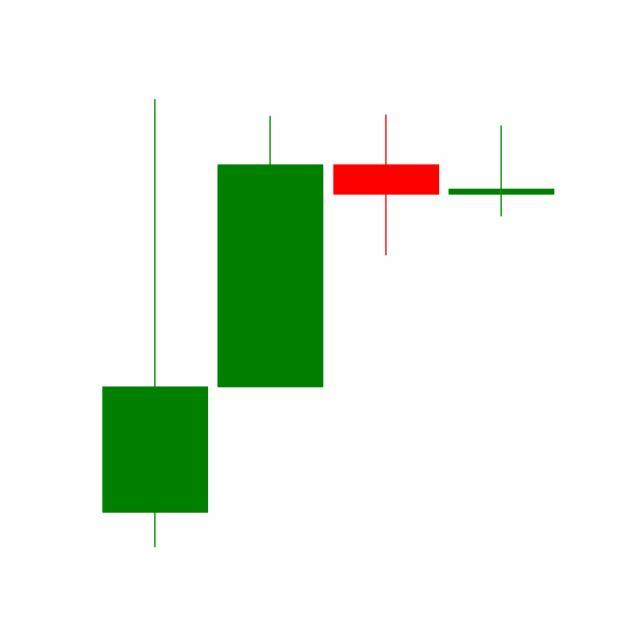Spinning Top: (329, 114, 445, 258)
